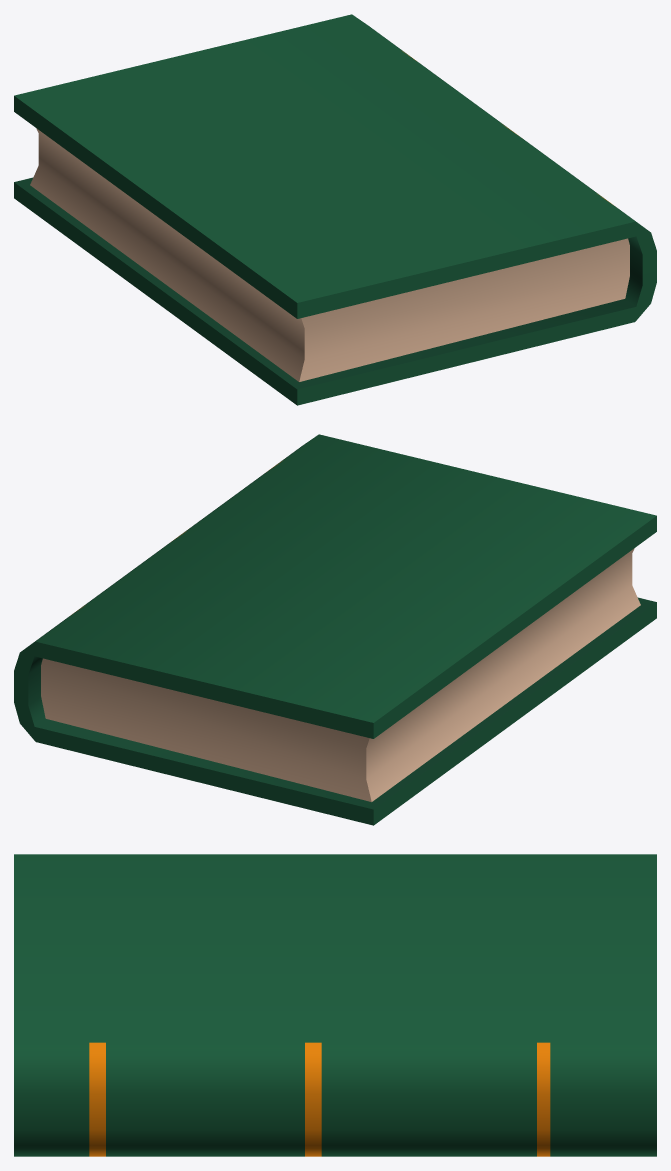
File: BookClosed4.fbx
The picture shows the model from 3 angles, top to bottom: view 1: azimuth 30°, elevation 25°; view 2: azimuth 150°, elevation 25°; view 3: azimuth 270°, elevation 25°; orthographic projection. The views are drawn at different scales.
Visible parts, largest first — view 1: BookClosed4; view 2: BookClosed4; view 3: BookClosed4.
Part boxes in pixels (box(x1,y1,x2,y2)): BookClosed4: box(14, 14, 656, 405); BookClosed4: box(14, 434, 656, 825); BookClosed4: box(14, 854, 656, 1156).
Bounding box in the file's own units: 22 × 6 × 30.01.
